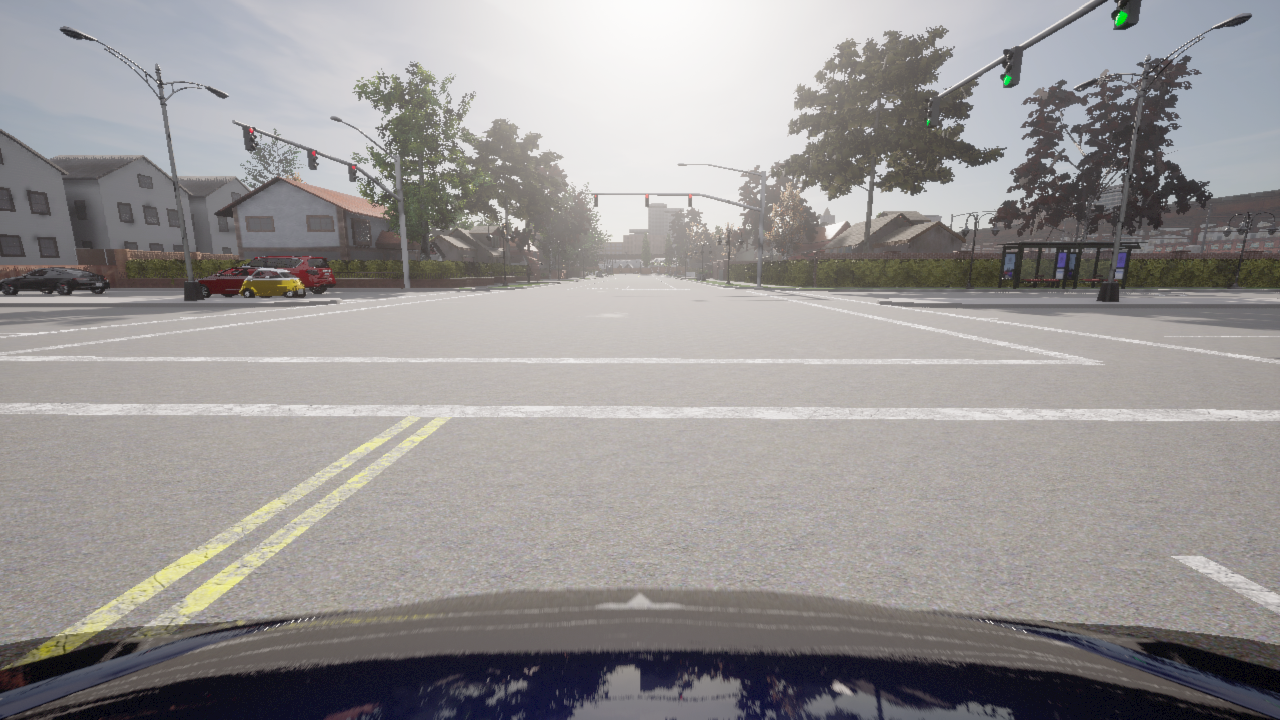cyclist: (0, 588, 1279, 719), (218, 256, 335, 295), (0, 267, 109, 294), (194, 266, 284, 297), (239, 268, 305, 297)
pedestrian: (526, 264, 531, 281)
